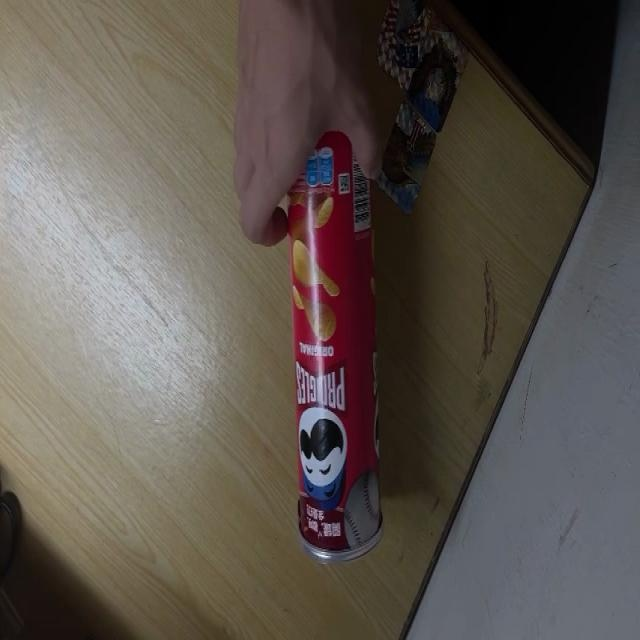Pringles: (283, 16, 383, 560)
